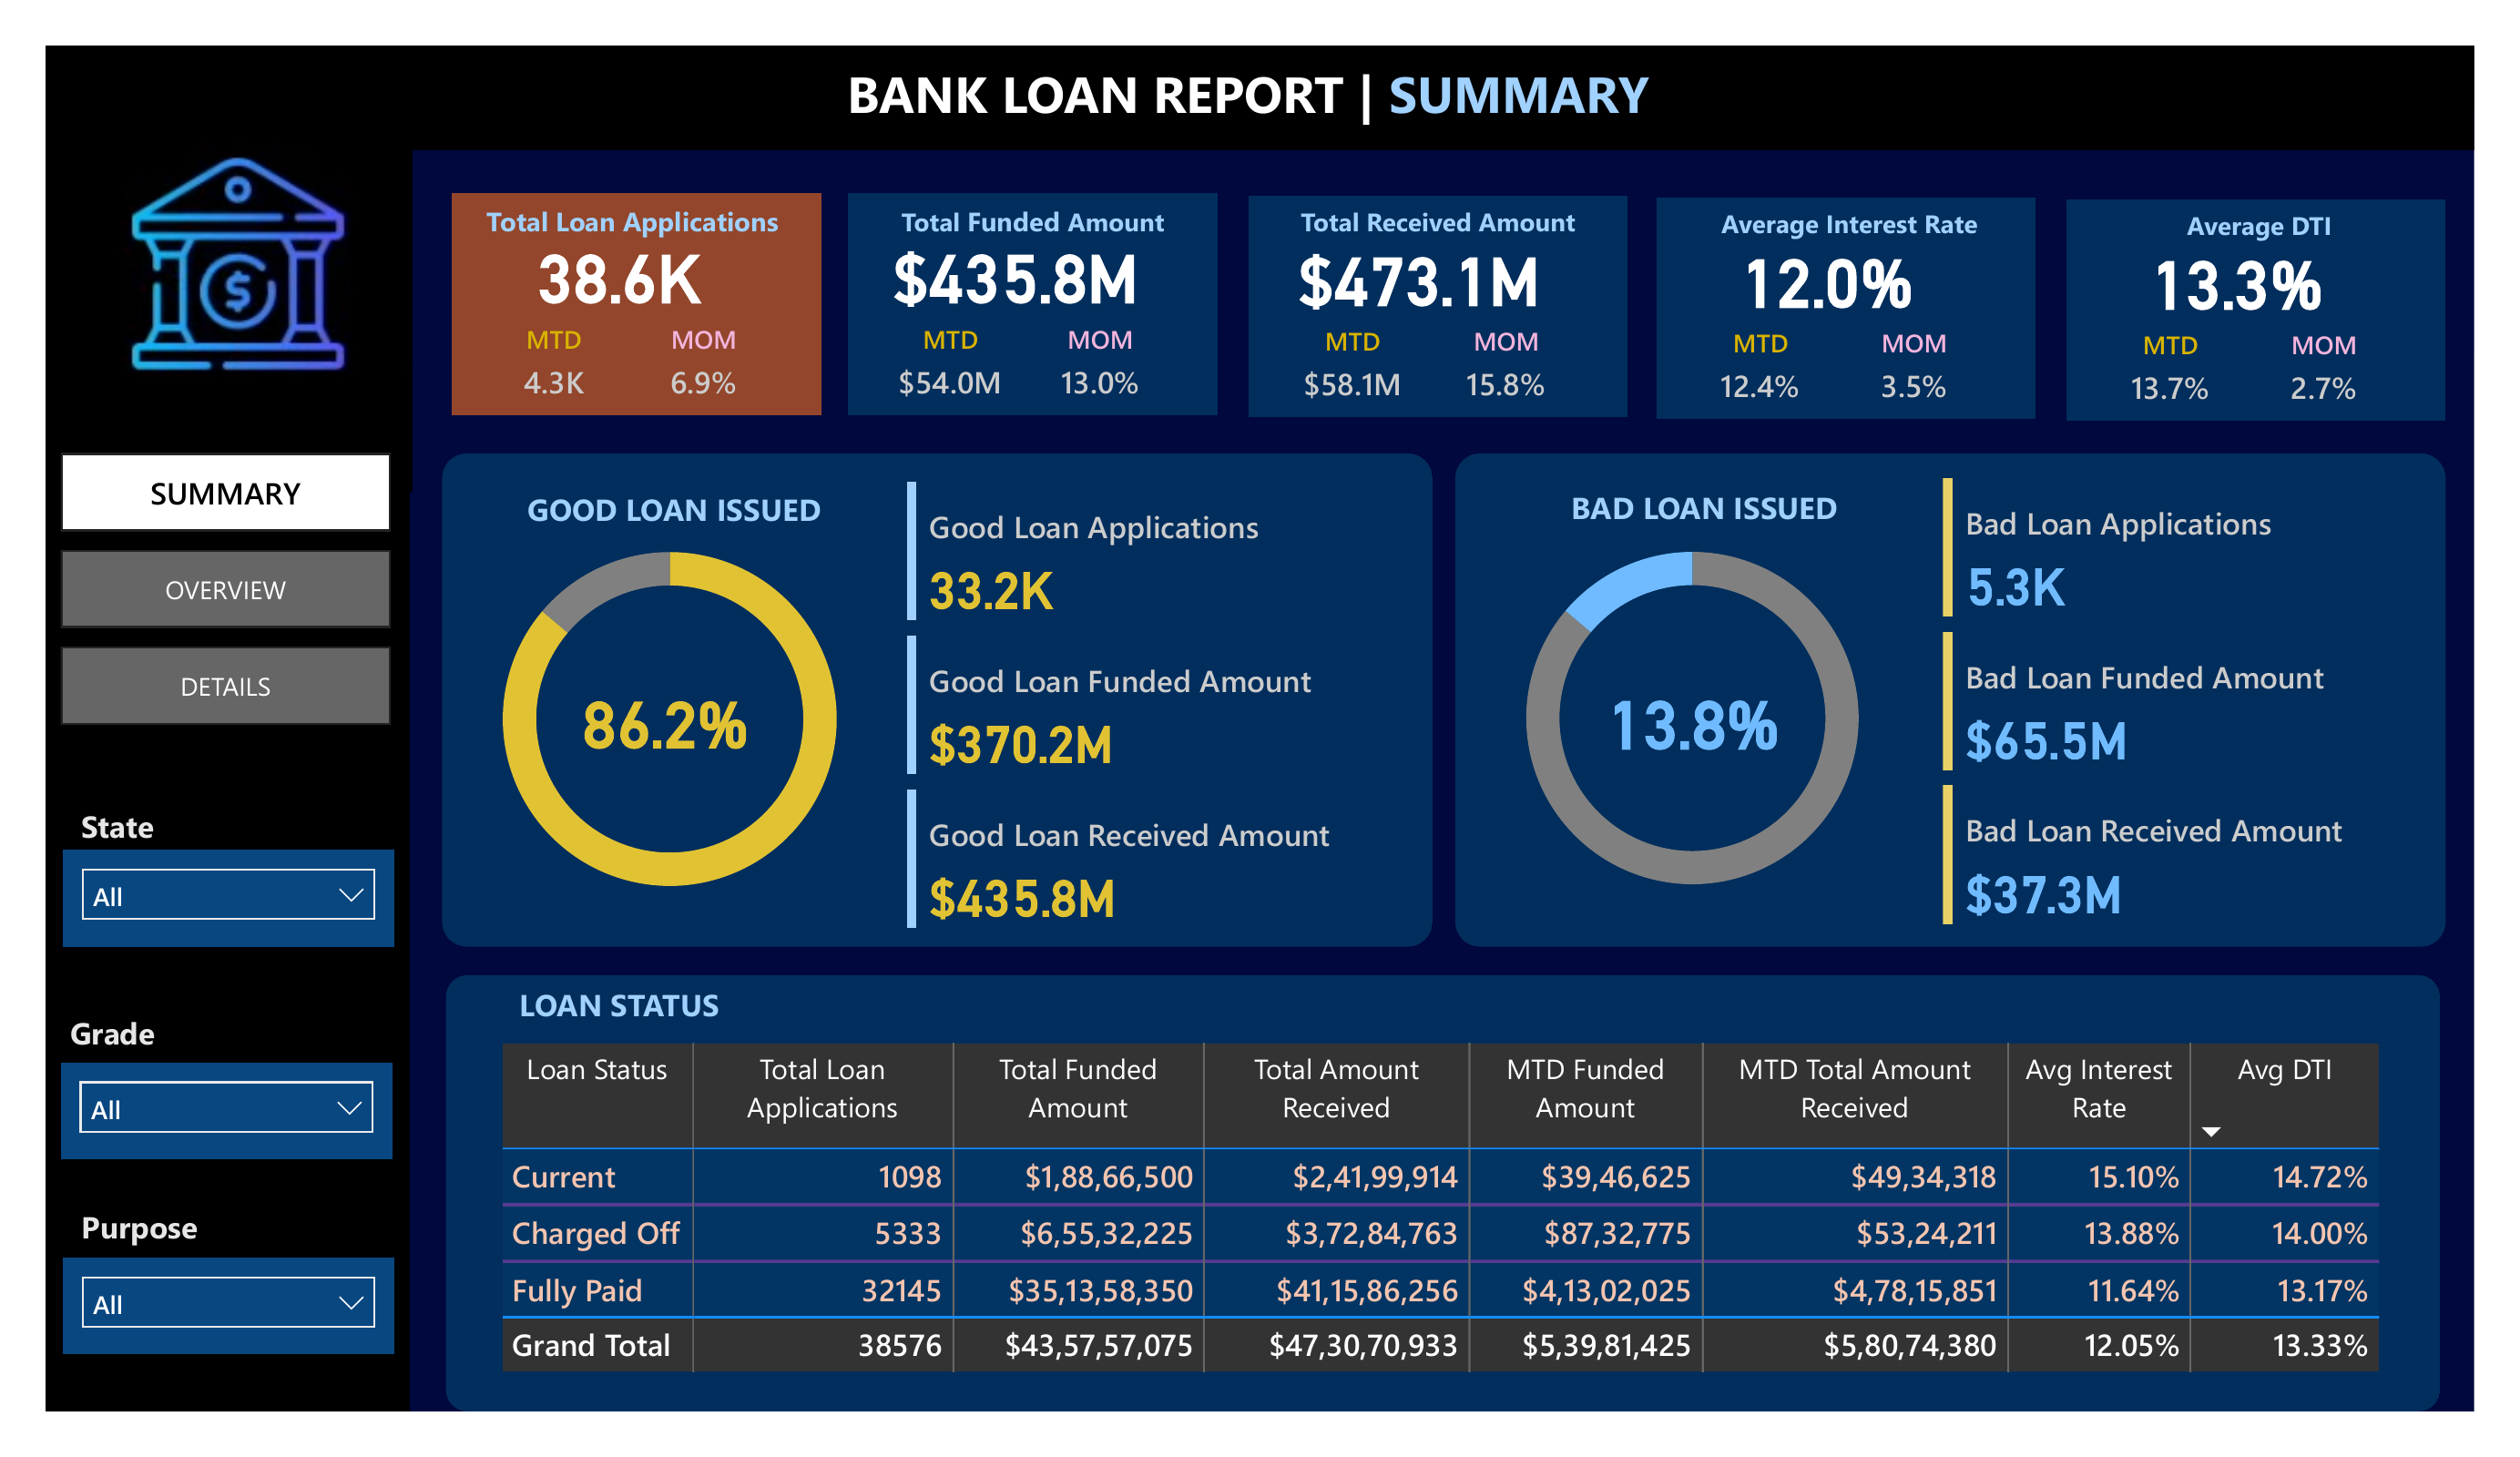

This screenshot's page, from the dashboard's own definition file:
{"tool":"powerbi","page":{"name":"SUMMARY","canvas":[1280,720],"ordinal":0},"visuals":[{"type":"shape","box":[0,0,1280.3,55],"z":0},{"type":"shape","box":[0,54.9,192,665.5],"z":1000},{"type":"textbox","box":[406.6,2.4,454.8,54.3],"z":2000},{"type":"shape","box":[423.9,77.5,194.9,116.6],"z":2000,"group":"g2"},{"type":"shape","box":[214.2,78.4,194.9,116.6],"z":2000,"group":"g1"},{"type":"shape","box":[633.4,78.8,200.7,116.6],"z":2000,"group":"g3"},{"type":"shape","box":[848.9,80,200.7,116.6],"z":2000,"group":"g4"},{"type":"shape","box":[1064.5,81.2,200.7,116.6],"z":2000,"group":"g5"},{"type":"shape","box":[743.2,214.8,522.2,260.5],"z":3000},{"type":"group","id":"g1","title":"Group 1","box":[208.7,78.4,200.3,117.2],"z":4000},{"type":"card","fields":{"Values":["bank_loan_data.Total Funded Amount"]},"box":[418.4,95.3,186.6,49.4],"z":4000,"group":"g2"},{"type":"card","fields":{"Values":["bank_loan_data.Total Loan Applications"]},"box":[208.7,96.2,186.6,49.4],"z":4000,"group":"g1"},{"type":"card","fields":{"Values":["bank_loan_data.Total Amount Received"]},"box":[627.7,96.6,192.2,49.4],"z":4000,"group":"g3"},{"type":"card","fields":{"Values":["bank_loan_data.Avg Interest Rate"]},"box":[843.2,97.8,192.2,49.4],"z":4000,"group":"g4"},{"type":"card","fields":{"Values":["bank_loan_data.Avg DTI"]},"box":[1058.8,99,192.2,49.4],"z":4000,"group":"g5"},{"type":"group","id":"g2","title":"Group 1","box":[418.4,77.5,200,116.2],"z":5000},{"type":"textbox","title":"Total Funded Amount","box":[423.9,77.5,194.9,42.5],"z":5000,"group":"g2"},{"type":"textbox","box":[214.2,78.4,194.9,42.5],"z":5000,"group":"g1"},{"type":"textbox","title":"Total Funded Amount","box":[633.4,78.8,200.7,42.5],"z":5000,"group":"g3"},{"type":"textbox","title":"Total Funded Amount","box":[848.9,80,200.7,42.5],"z":5000,"group":"g4"},{"type":"textbox","title":"Total Funded Amount","box":[1064.5,81.2,200.7,42.5],"z":5000,"group":"g5"},{"type":"card","title":"MTD","fields":{"Values":["bank_loan_data.MTD Funded Amount"]},"box":[433.7,145.2,88.1,49.5],"z":6000,"group":"g2"},{"type":"card","title":"MTD","fields":{"Values":["bank_loan_data.MTD Loan Applications"]},"box":[224,146.1,88.1,49.5],"z":6000,"group":"g1"},{"type":"card","title":"MTD","fields":{"Values":["bank_loan_data.MTD Total Amount Received"]},"box":[643.4,146.5,90.7,49.5],"z":6000,"group":"g3"},{"type":"card","title":"MTD","fields":{"Values":["bank_loan_data.MTD Avg Interest Rate"]},"box":[858.9,147.7,90.7,49.5],"z":6000,"group":"g4"},{"type":"card","title":"MTD","fields":{"Values":["bank_loan_data.MTD Avg DTI"]},"box":[1074.5,148.9,90.7,49.5],"z":6000,"group":"g5"},{"type":"card","fields":{"Values":["bank_loan_data.Bad Loan Percentage"]},"box":[808.3,330.6,120.6,49.5],"z":6000},{"type":"card","title":"MOM","fields":{"Values":["bank_loan_data.MOM Total Funded Amount"]},"box":[512.1,145.2,88.1,49.5],"z":7000,"group":"g2"},{"type":"card","title":"MOM","fields":{"Values":["bank_loan_data.MOM Loan Applications"]},"box":[302.4,146.1,88.1,49.5],"z":7000,"group":"g1"},{"type":"card","title":"MOM","fields":{"Values":["bank_loan_data.MOM Total Amount Received"]},"box":[724.2,146.5,90.7,49.5],"z":7000,"group":"g3"},{"type":"card","title":"MOM","fields":{"Values":["bank_loan_data.MOM Avg Interest Rate"]},"box":[939.7,147.7,90.7,49.5],"z":7000,"group":"g4"},{"type":"card","title":"MOM","fields":{"Values":["bank_loan_data.MOM Avg DTI"]},"box":[1155.3,148.9,90.7,49.5],"z":7000,"group":"g5"},{"type":"shape","box":[208.6,214.8,522,260],"z":7000},{"type":"card","fields":{"Values":["bank_loan_data.Good Loan Percentage"]},"box":[267.8,330.6,118.2,49.5],"z":8000},{"type":"textbox","box":[213.8,228.8,235,35],"z":9000},{"type":"group","id":"g3","title":"Group 1","box":[627.7,78.8,206.2,116.2],"z":10000},{"type":"group","id":"g4","title":"Group 1","box":[843.2,80,206.2,116.2],"z":11000},{"type":"group","id":"g5","title":"Group 1","box":[1058.8,81.2,206.2,116.2],"z":12000},{"type":"donutChart","fields":{"Category":["bank_loan_data.Good vs Bad Loan"],"Y":["bank_loan_data.Total Loan Applications"]},"box":[204.1,239.7,249.7,230.4],"z":13000},{"type":"donutChart","fields":{"Category":["bank_loan_data.Good vs Bad Loan"],"Y":["bank_loan_data.Total Loan Applications"]},"box":[743.2,240.1,249.7,229.2],"z":14000},{"type":"cardVisual","fields":{"Data":["bank_loan_data.Good Loan Applications","bank_loan_data.Good Loan Funded Amount","bank_loan_data.Good Loan Received Amount"]},"box":[448.8,225,266.7,245.2],"z":15000},{"type":"textbox","box":[754,228,241.3,36.2],"z":16000},{"type":"cardVisual","fields":{"Data":["bank_loan_data.Bad Loan Applications","bank_loan_data.Bad Loan Funded Amount","bank_loan_data.Bad Loan Received Amount"]},"box":[995.3,223.2,266.6,244.9],"z":17000},{"type":"shape","box":[211.1,489.8,1050.8,230.4],"z":18000},{"type":"tableEx","fields":{"Values":["bank_loan_data.loan_status","bank_loan_data.Total Loan Applications","bank_loan_data.Total Funded Amount","bank_loan_data.Total Amount Received","bank_loan_data.MTD Funded Amount","bank_loan_data.MTD Total Amount Received","bank_loan_data.Avg Interest Rate","bank_loan_data.Avg DTI"]},"box":[235,521.2,1007.5,198.8],"z":19000},{"type":"textbox","box":[245,490,141.2,40],"z":20000},{"type":"slicer","fields":{"Values":["bank_loan_data.address_state"]},"box":[8.8,423.8,175,51.2],"z":21000},{"type":"textbox","box":[13.8,396.2,98.8,40],"z":22000},{"type":"slicer","fields":{"Values":["bank_loan_data.grade"]},"box":[7.7,536,175,51.2],"z":23000},{"type":"textbox","box":[7.7,504.7,165,46.2],"z":24000},{"type":"slicer","fields":{"Values":["bank_loan_data.purpose"]},"box":[8.8,638.8,175,51.2],"z":25000},{"type":"textbox","box":[13.8,607,156.2,40],"z":26000},{"type":"image","box":[0,30.2,211.1,209.9],"z":27000},{"type":"pageNavigator","box":[8.4,214.7,173.7,144.8],"z":28000}]}

Visuals, with their boxes on the page's 1280x720 design canvas (x1, y1, x2, y2). These are canvas units, not pixel positions in the 2520x1457 screenshot, which may show the page scaled, cropped or inside an application window:
shape: detection(0, 0, 1280, 55)
shape: detection(0, 55, 192, 720)
textbox: detection(407, 2, 861, 57)
shape: detection(424, 78, 619, 194)
shape: detection(214, 78, 409, 195)
shape: detection(633, 79, 834, 195)
shape: detection(849, 80, 1050, 197)
shape: detection(1064, 81, 1265, 198)
shape: detection(743, 215, 1265, 475)
"Group 1" group: detection(209, 78, 409, 196)
card - bank_loan_data.Total Funded Amount: detection(418, 95, 605, 145)
card - bank_loan_data.Total Loan Applications: detection(209, 96, 395, 146)
card - bank_loan_data.Total Amount Received: detection(628, 97, 820, 146)
card - bank_loan_data.Avg Interest Rate: detection(843, 98, 1035, 147)
card - bank_loan_data.Avg DTI: detection(1059, 99, 1251, 148)
"Group 1" group: detection(418, 78, 618, 194)
"Total Funded Amount" textbox: detection(424, 78, 619, 120)
textbox: detection(214, 78, 409, 121)
"Total Funded Amount" textbox: detection(633, 79, 834, 121)
"Total Funded Amount" textbox: detection(849, 80, 1050, 122)
"Total Funded Amount" textbox: detection(1064, 81, 1265, 124)
"MTD" card: detection(434, 145, 522, 195)
"MTD" card: detection(224, 146, 312, 196)
"MTD" card: detection(643, 146, 734, 196)
"MTD" card: detection(859, 148, 950, 197)
"MTD" card: detection(1074, 149, 1165, 198)
card - bank_loan_data.Bad Loan Percentage: detection(808, 331, 929, 380)
"MOM" card: detection(512, 145, 600, 195)
"MOM" card: detection(302, 146, 390, 196)
"MOM" card: detection(724, 146, 815, 196)
"MOM" card: detection(940, 148, 1030, 197)
"MOM" card: detection(1155, 149, 1246, 198)
shape: detection(209, 215, 731, 475)
card - bank_loan_data.Good Loan Percentage: detection(268, 331, 386, 380)
textbox: detection(214, 229, 449, 264)
"Group 1" group: detection(628, 79, 834, 195)
"Group 1" group: detection(843, 80, 1049, 196)
"Group 1" group: detection(1059, 81, 1265, 197)
donutChart - bank_loan_data.Good vs Bad Loan x bank_loan_data.Total Loan Applications: detection(204, 240, 454, 470)
donutChart - bank_loan_data.Good vs Bad Loan x bank_loan_data.Total Loan Applications: detection(743, 240, 993, 469)
cardVisual - bank_loan_data.Good Loan Applications x bank_loan_data.Good Loan Funded Amount: detection(449, 225, 716, 470)
textbox: detection(754, 228, 995, 264)
cardVisual - bank_loan_data.Bad Loan Applications x bank_loan_data.Bad Loan Funded Amount: detection(995, 223, 1262, 468)
shape: detection(211, 490, 1262, 720)
tableEx - bank_loan_data.loan_status x bank_loan_data.Total Loan Applications: detection(235, 521, 1242, 720)
textbox: detection(245, 490, 386, 530)
slicer - bank_loan_data.address_state: detection(9, 424, 184, 475)
textbox: detection(14, 396, 113, 436)
slicer - bank_loan_data.grade: detection(8, 536, 183, 587)
textbox: detection(8, 505, 173, 551)
slicer - bank_loan_data.purpose: detection(9, 639, 184, 690)
textbox: detection(14, 607, 170, 647)
image: detection(0, 30, 211, 240)
pageNavigator: detection(8, 215, 182, 360)
